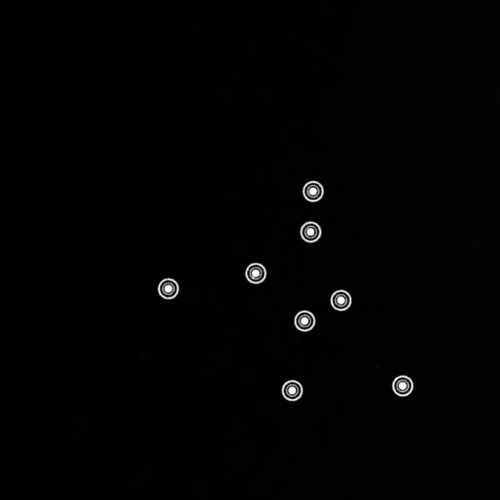hercules: (153, 174, 416, 407)
